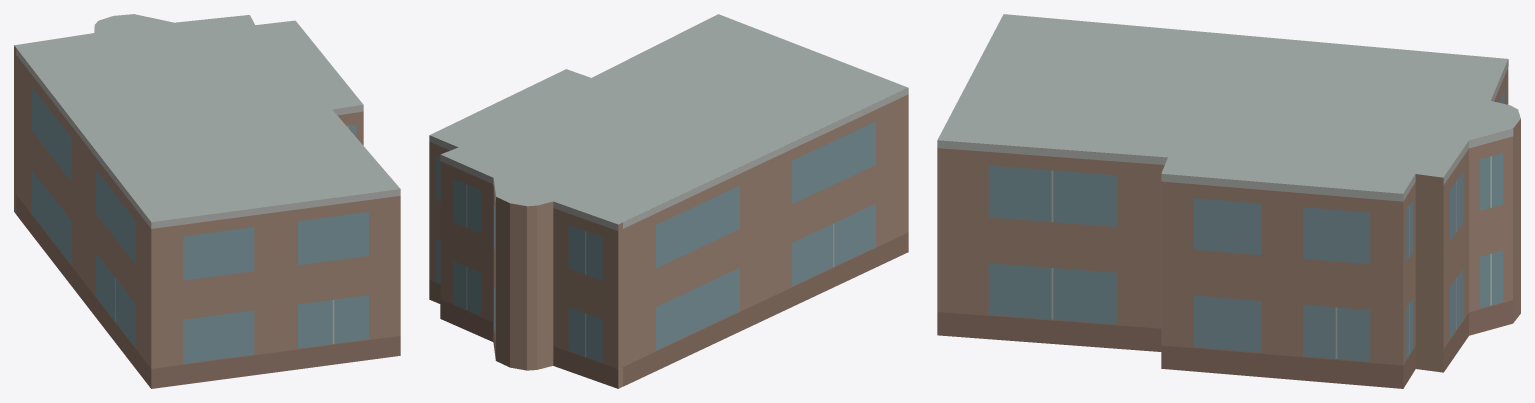
Rendered from survey-upis-32827284.glb.
3 renders of one model, left to right at view 1: azimuth 30°, elevation 25°; view 2: azimuth 150°, elevation 25°; view 3: azimuth 270°, elevation 25°, orthographic. The views are drawn at different scales.
Visible parts, largest first — view 1: survey-upis-32827284.tmp; view 2: survey-upis-32827284.tmp; view 3: survey-upis-32827284.tmp.
Part boxes in pixels (box(x1,y1,x2,y2)): survey-upis-32827284.tmp: box(14, 14, 400, 388); survey-upis-32827284.tmp: box(429, 14, 908, 388); survey-upis-32827284.tmp: box(937, 14, 1520, 388).
Bounding box in the file's own units: 12.08 × 6.1 × 16.55.
